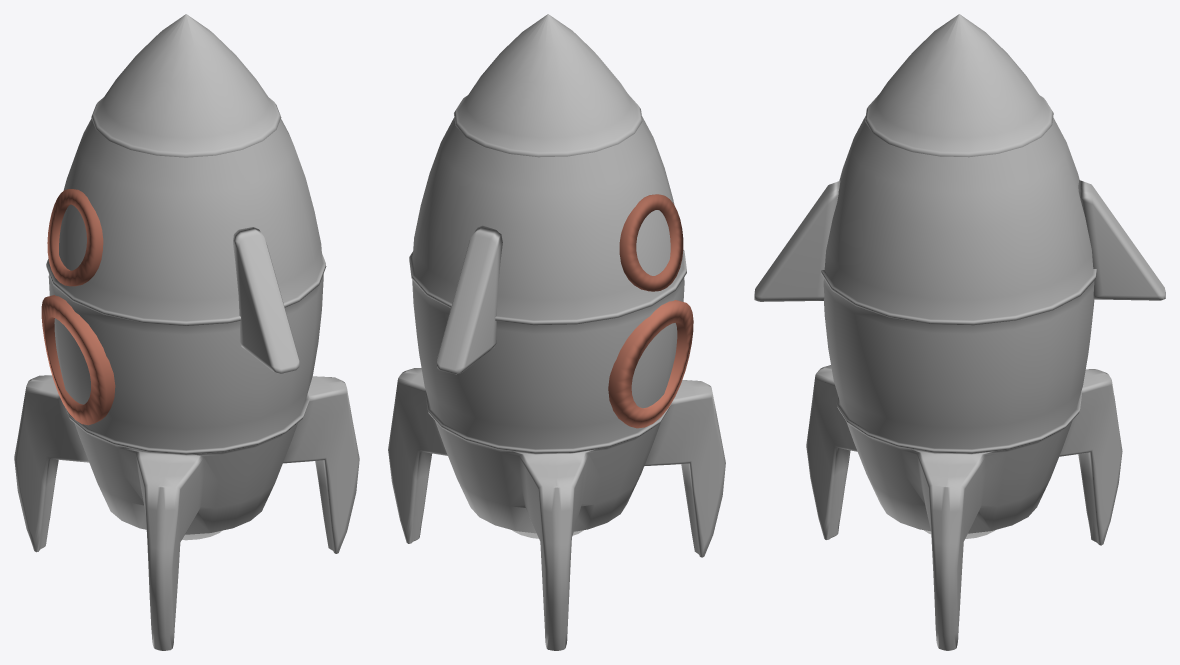
Rendered from rocket_Test_uv.fbx.
3 views of the same model, side by side, from view 1: azimuth 30°, elevation 25°; view 2: azimuth 150°, elevation 25°; view 3: azimuth 270°, elevation 25° (orthographic).
Parts seen in each view (by area): view 1: Rocket; view 2: Rocket; view 3: Rocket.
Boxes of the visible parts, bbox=[...] form: Rocket: bbox=[14, 14, 359, 650]; Rocket: bbox=[388, 14, 725, 650]; Rocket: bbox=[754, 14, 1165, 650].
Size of the model in its own units: 218 by 409 by 269.
